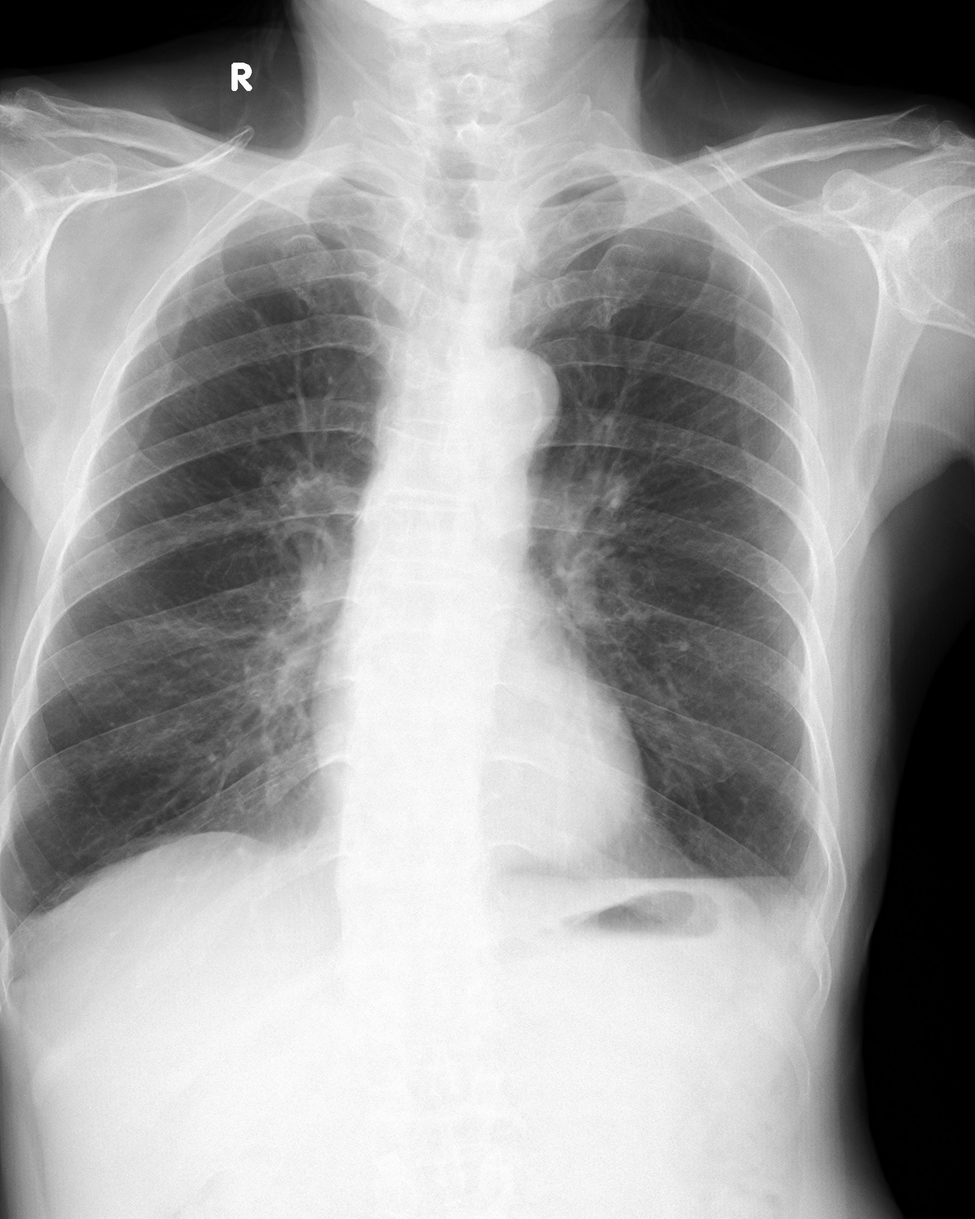Pleural thickening: (723, 849, 833, 948), (0, 862, 87, 936)
